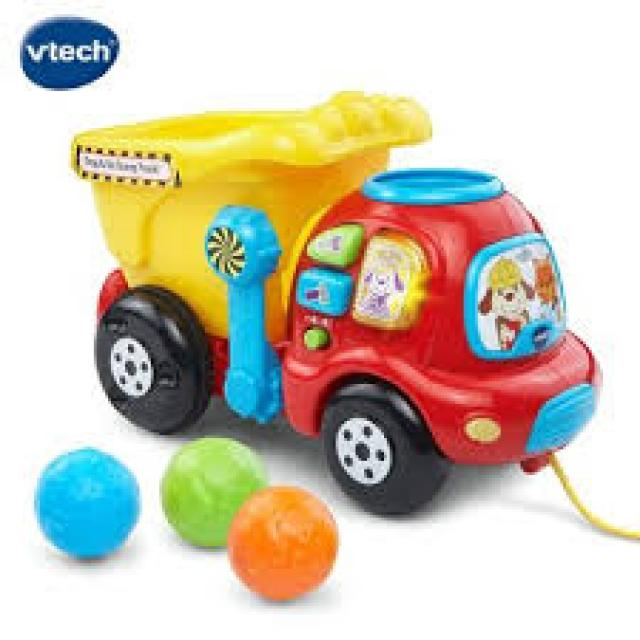Dry: (69, 95, 594, 511)
